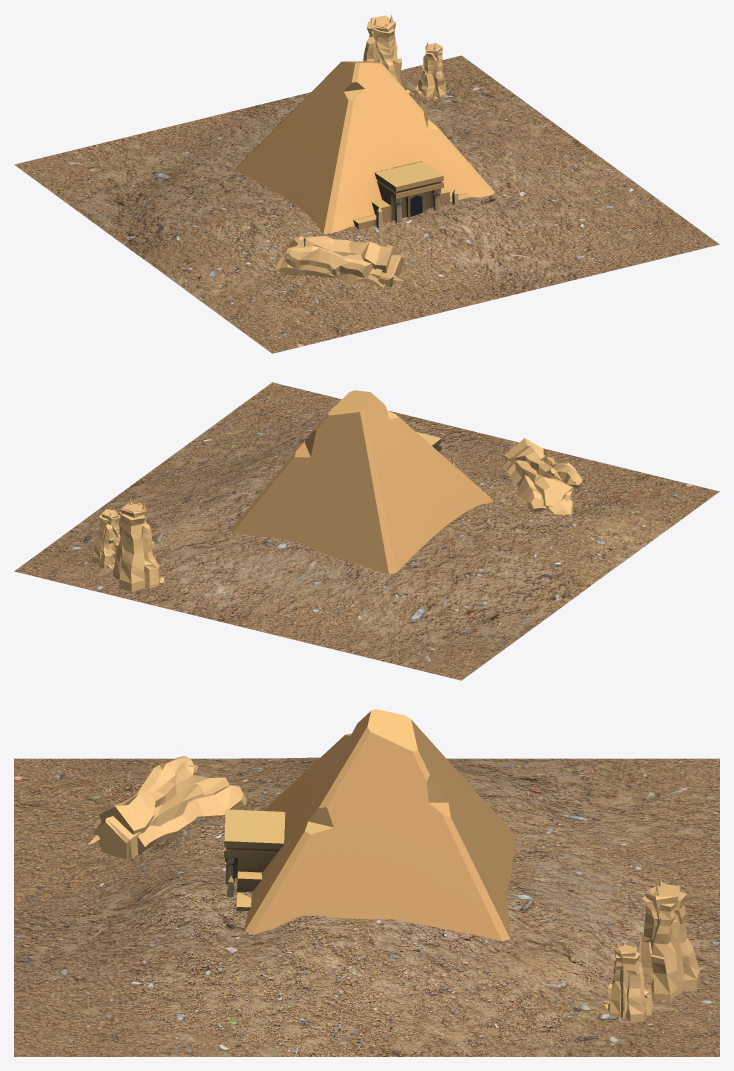
Rendered from SSSS4.fbx.
3 views of the same model, one above another, from view 1: azimuth 30°, elevation 25°; view 2: azimuth 150°, elevation 25°; view 3: azimuth 270°, elevation 25° (orthographic). The views are drawn at different scales.
Parts seen in each view (by area): view 1: Plane, pyramid.001, model.002, model.001, model; view 2: Plane, pyramid.001, model.002, model.001, model; view 3: Plane, pyramid.001, model.002, model.001, model.
Part boxes in pixels (x1,y1,x2,y2): Plane: [14, 55, 719, 353]; pyramid.001: [234, 61, 494, 234]; model.002: [270, 236, 404, 287]; model.001: [363, 14, 410, 94]; model: [414, 42, 445, 98]; Plane: [14, 382, 719, 680]; pyramid.001: [231, 390, 492, 573]; model.002: [503, 438, 598, 514]; model.001: [113, 497, 164, 591]; model: [92, 506, 120, 568]; Plane: [14, 757, 719, 1056]; pyramid.001: [224, 709, 515, 941]; model.002: [88, 748, 246, 859]; model.001: [638, 877, 699, 1000]; model: [603, 941, 653, 1022].
Bounding box in the file's own units: 500 × 156 × 500.
